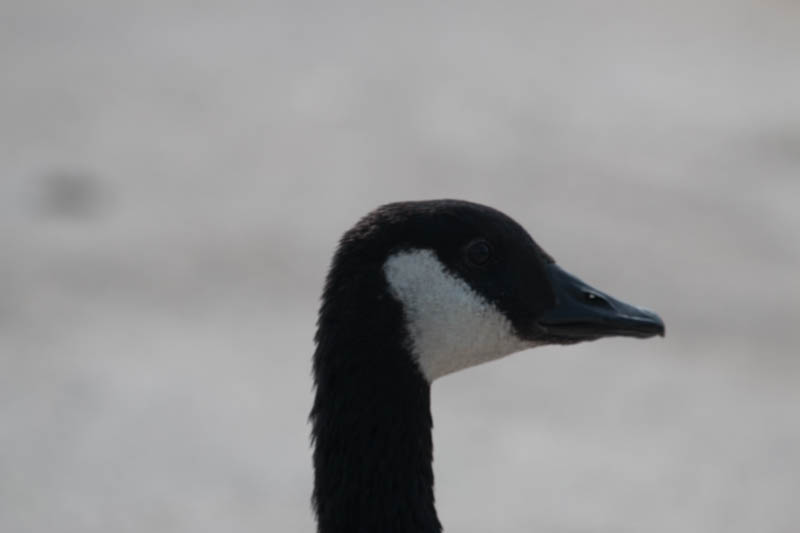goose-head: (312, 198, 666, 387)
